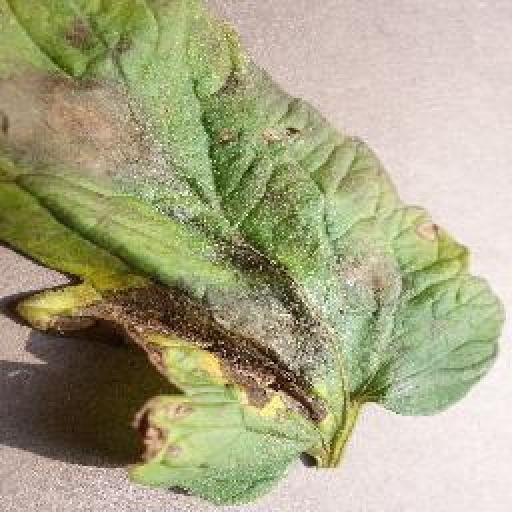disease_tomato: (0, 0, 508, 508)
